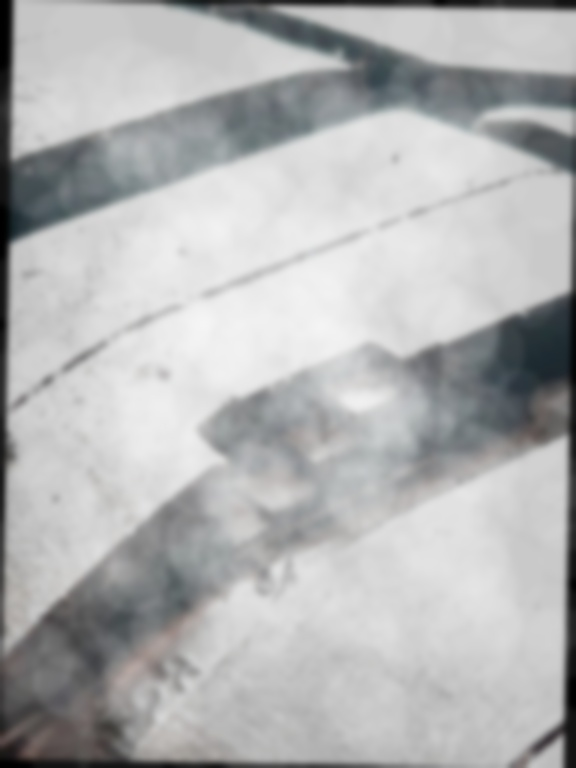temoin:95: (181, 318, 452, 585)
